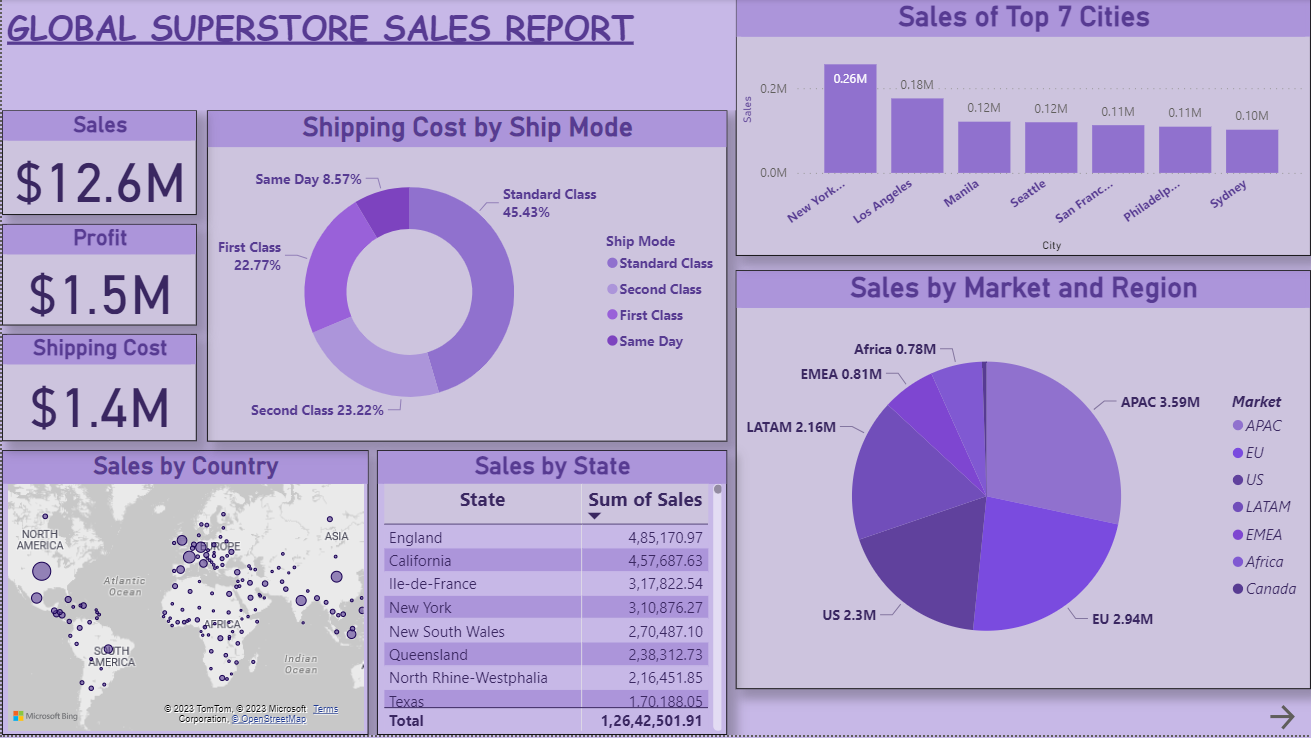

This screenshot's page, from the dashboard's own definition file:
{"tool":"powerbi","page":{"name":"Sales ","canvas":[1280,720],"ordinal":0},"visuals":[{"type":"map","title":"Sales by Country","fields":{"Category":["Orders.Country"],"Size":["Sum(Orders.Sales)"]},"box":[0,441.3,358.2,278.7],"z":0},{"type":"donutChart","title":"Shipping Cost by Ship Mode","fields":{"Category":["Orders.Ship Mode"],"Y":["Sum(Orders.Shipping Cost)"]},"box":[200.5,108.8,508.5,323.9],"z":1000},{"type":"pieChart","title":"Sales by Market and Region","fields":{"Category":["Orders.Market","Orders.Region"],"Y":["Sum(Orders.Sales)"]},"box":[717.6,265.3,562.3,409.5],"z":2000},{"type":"columnChart","title":"Sales of Top 7 Cities","fields":{"Category":["Orders.City"],"Y":["Sum(Orders.Sales)"]},"box":[717.5,0,562.5,251.2],"z":3000},{"type":"tableEx","title":"Sales by State","fields":{"Values":["Orders.State","Sum(Orders.Sales)"]},"box":[366.7,441.3,342.3,278.7],"z":4000},{"type":"card","title":"Sales","fields":{"Values":["Orders.Total Sale"]},"box":[0,108.8,190.7,102.7],"z":5000},{"type":"card","title":"Profit","fields":{"Values":["Orders.Total Profit"]},"box":[0,220,190.7,99],"z":6000},{"type":"card","title":"Shipping Cost","fields":{"Values":["Orders.Total Shipping Cost"]},"box":[0,327.6,190.7,105.1],"z":7000},{"type":"textbox","box":[0,0,717.5,108.8],"z":8000},{"type":"actionButton","box":[1223.8,675,56.2,45],"z":9000}]}

Visuals, with their boxes in screenshot pixels (x1, y1, x2, y2), scaled from the page's 1280x720 canvas onto the 1311x738 screenshot:
"Sales by Country" map: 0, 452, 367, 737
"Shipping Cost by Ship Mode" donutChart: 205, 112, 726, 444
"Sales by Market and Region" pieChart: 735, 272, 1310, 692
"Sales of Top 7 Cities" columnChart: 735, 0, 1310, 257
"Sales by State" tableEx: 376, 452, 726, 737
"Sales" card: 0, 112, 195, 217
"Profit" card: 0, 225, 195, 327
"Shipping Cost" card: 0, 336, 195, 444
textbox: 0, 0, 735, 112
actionButton: 1253, 692, 1310, 737
